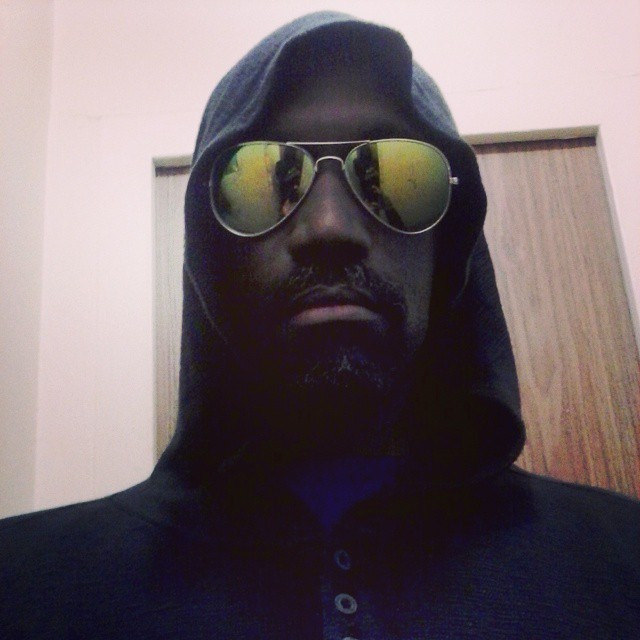sunglasses: (213, 143, 453, 229)
